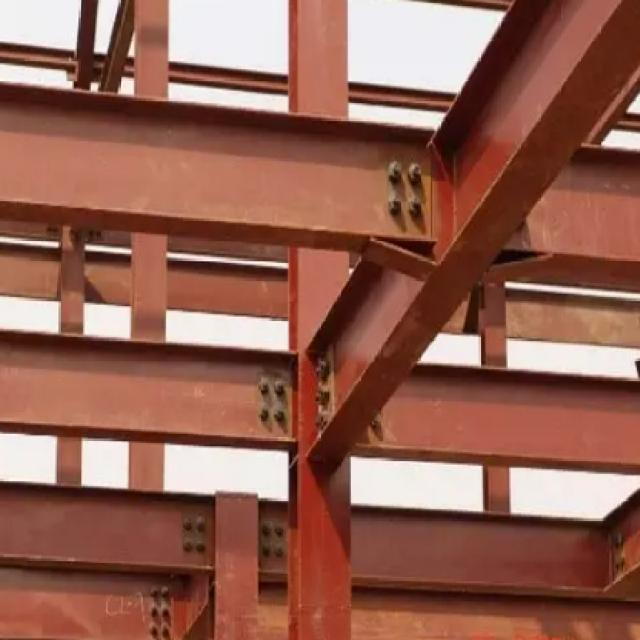Rusty bolt: (385, 158, 403, 186), (272, 410, 293, 433), (411, 197, 430, 222), (387, 194, 405, 219), (275, 379, 292, 401), (274, 523, 291, 542), (412, 163, 428, 183), (257, 407, 272, 428), (259, 545, 273, 565), (183, 514, 196, 534), (276, 547, 290, 565), (182, 540, 196, 557), (199, 542, 216, 556), (258, 377, 269, 398), (262, 522, 273, 543), (198, 518, 210, 535)
